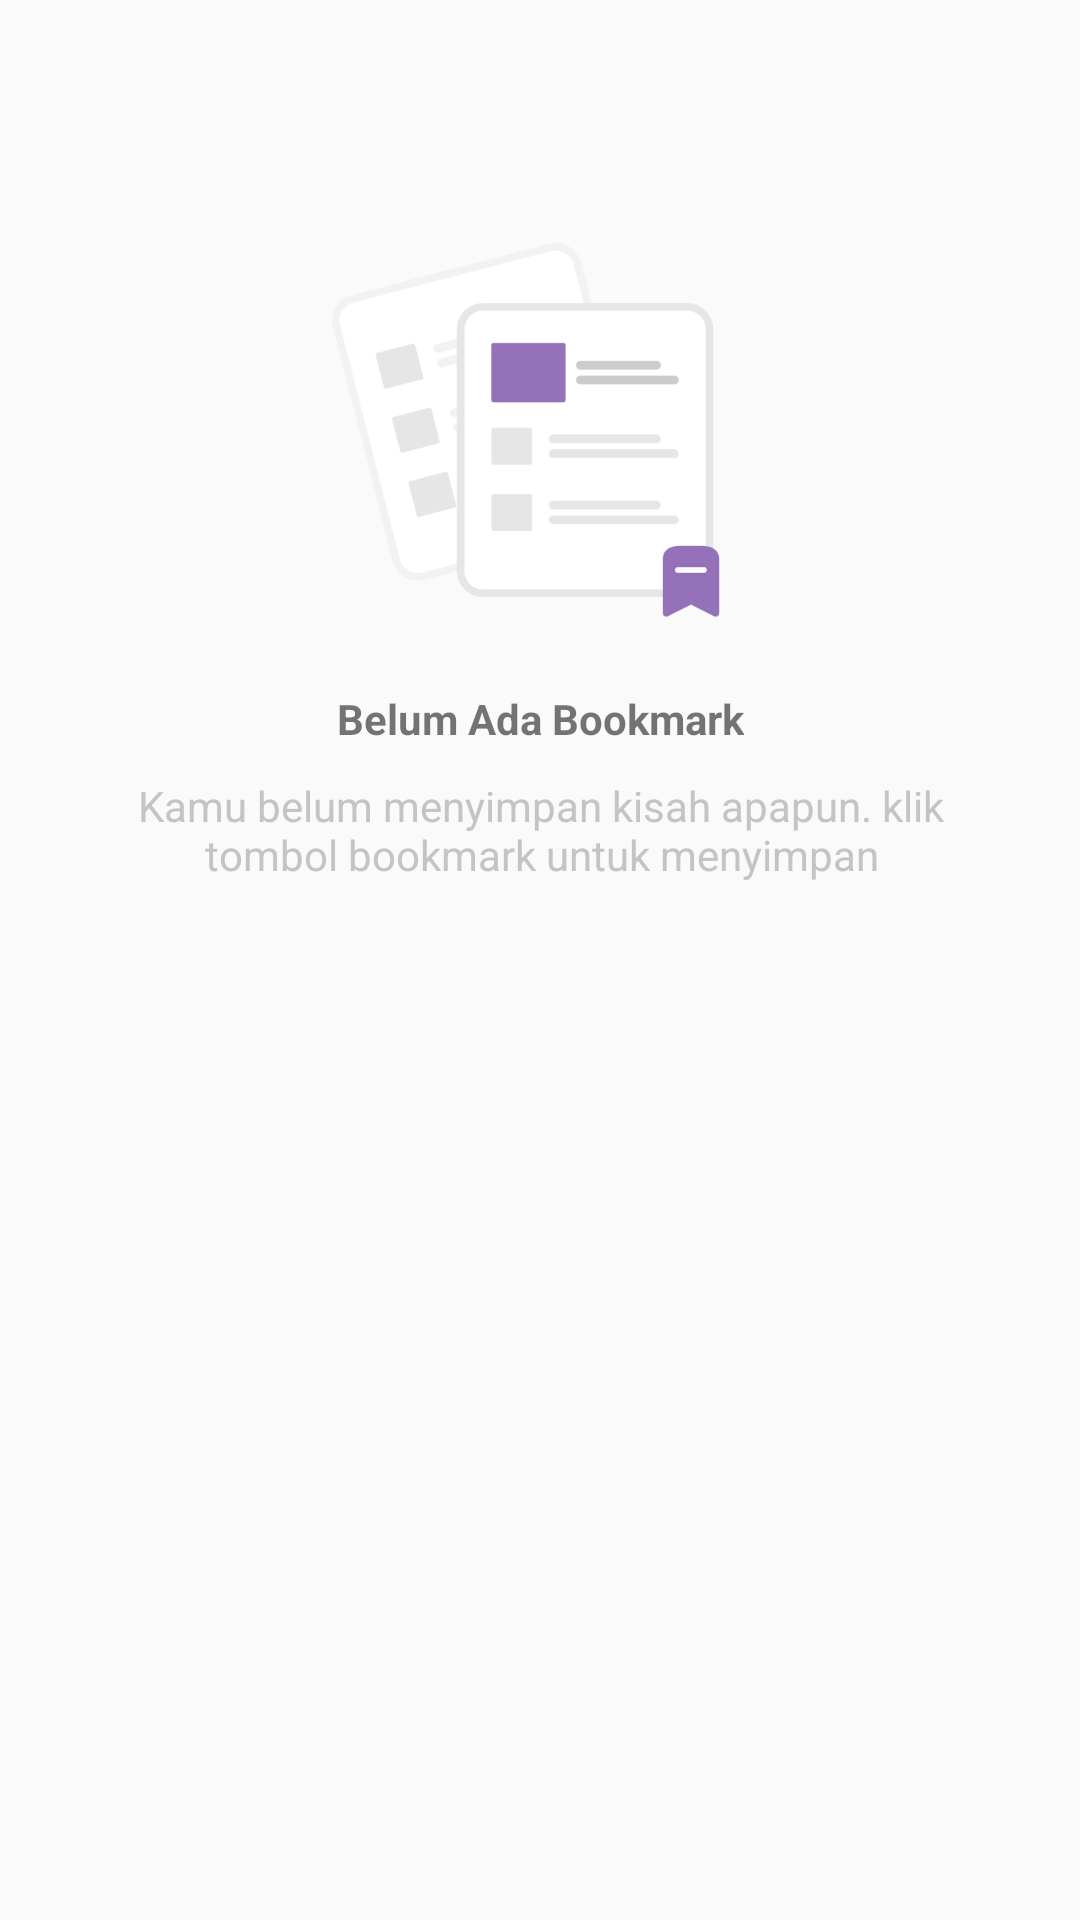

Named icons in this screenshot (1080px×1920px) and their bounding boxes, (left=x1, top=y1, right=x2, bottom=y2):
ilustrasi saved: (left=491, top=343, right=720, bottom=617)
